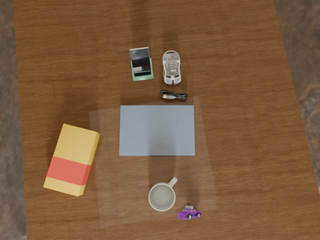book: (119, 105, 195, 155)
box: (44, 124, 100, 196)
cup: (149, 177, 177, 211)
mouse: (163, 51, 181, 86)
phone: (129, 47, 151, 76)
toy_car: (177, 206, 202, 220)
